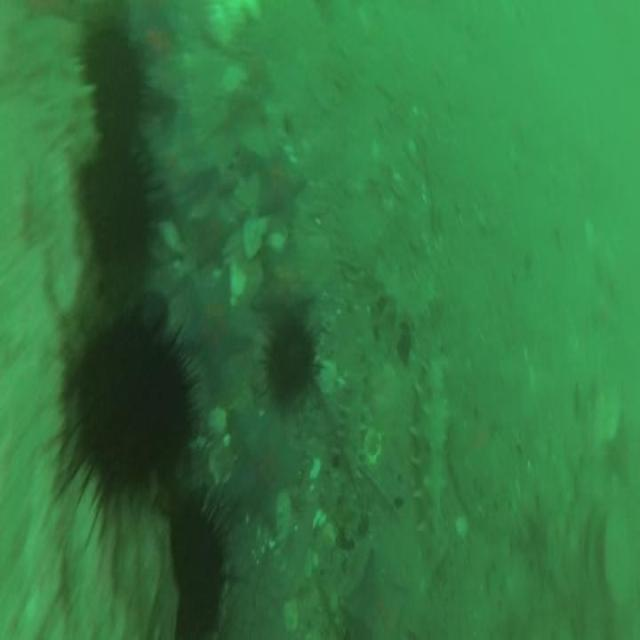echinus: (77, 329, 191, 490), (82, 147, 152, 262), (169, 502, 223, 640), (267, 319, 313, 400), (95, 44, 140, 120), (80, 27, 124, 74)
holothurian: (414, 360, 452, 545), (334, 362, 370, 512), (378, 262, 434, 330)
scallop: (206, 408, 228, 434), (366, 428, 382, 463)
starfish: (228, 404, 296, 524), (184, 276, 253, 386), (252, 148, 304, 228), (253, 253, 316, 314), (188, 200, 234, 266), (138, 10, 178, 56)
